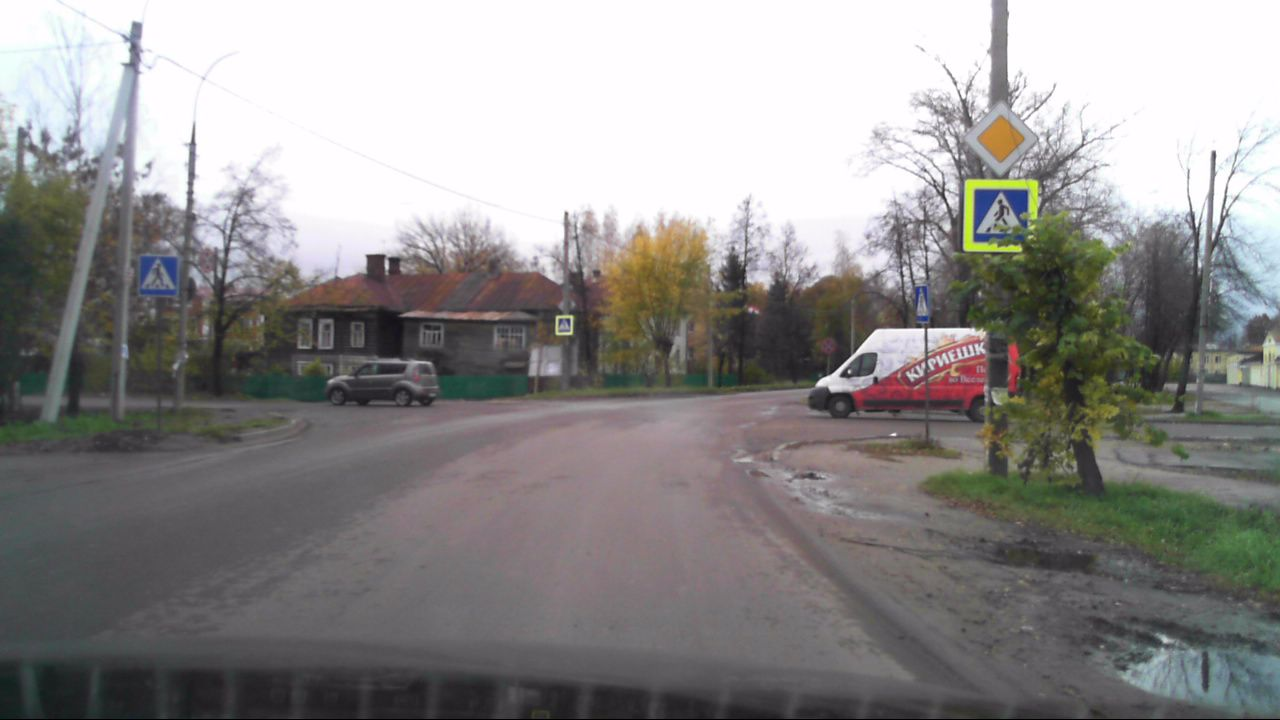No Parking: (819, 336, 837, 355)
